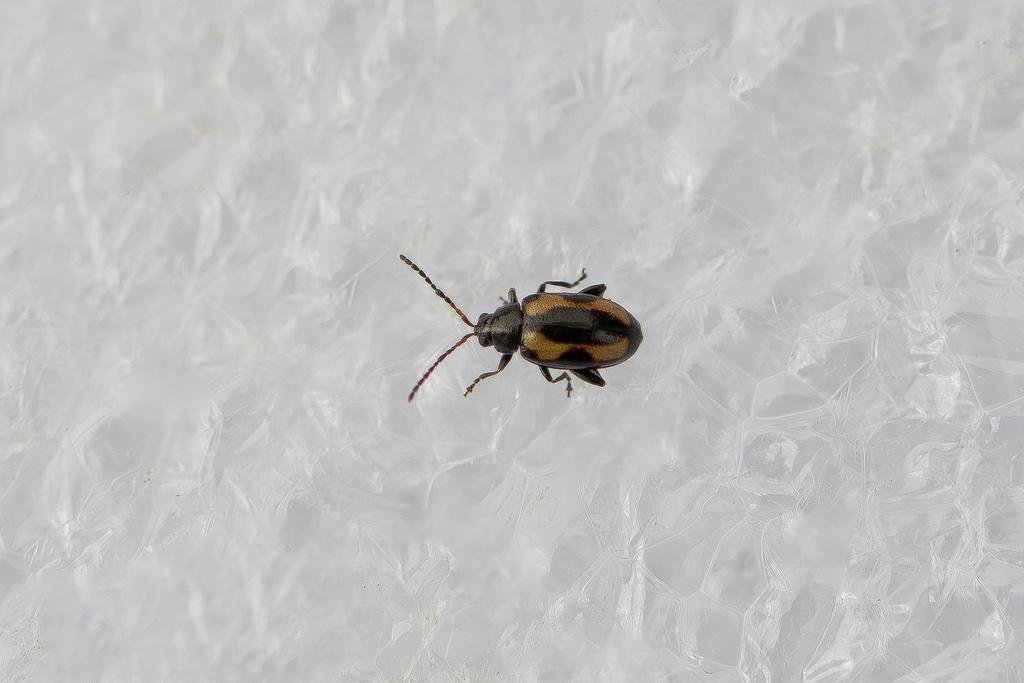flea_beetle: (366, 217, 684, 436)
